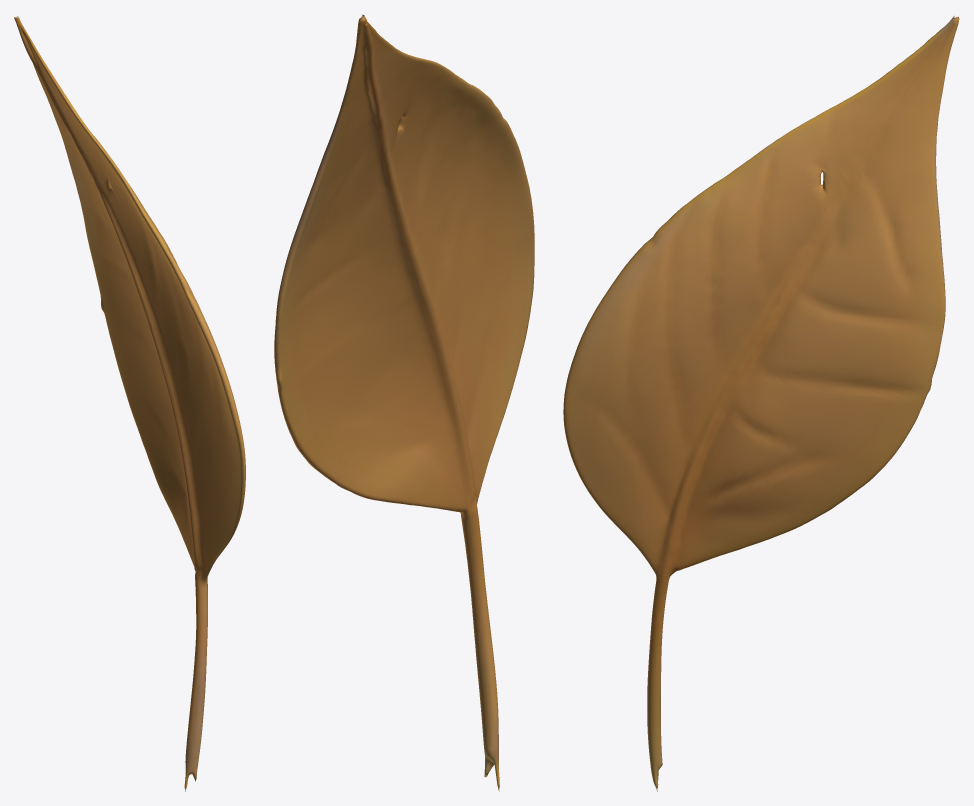
The model's file is leaf.fbx.
3 renders of one model, left to right at view 1: azimuth 30°, elevation 25°; view 2: azimuth 150°, elevation 25°; view 3: azimuth 270°, elevation 25°, orthographic. The views are drawn at different scales.
Parts seen in each view (by area): view 1: tripo_node_26e684d9; view 2: tripo_node_26e684d9; view 3: tripo_node_26e684d9.
Part boxes in pixels (left/top/right/bottom): tripo_node_26e684d9: left=14, top=16, right=245, bottom=791; tripo_node_26e684d9: left=274, top=14, right=534, bottom=791; tripo_node_26e684d9: left=563, top=16, right=959, bottom=791.
Bounding box in the file's own units: 12.35 × 99.23 × 46.9.
1 material, 1 textured.
